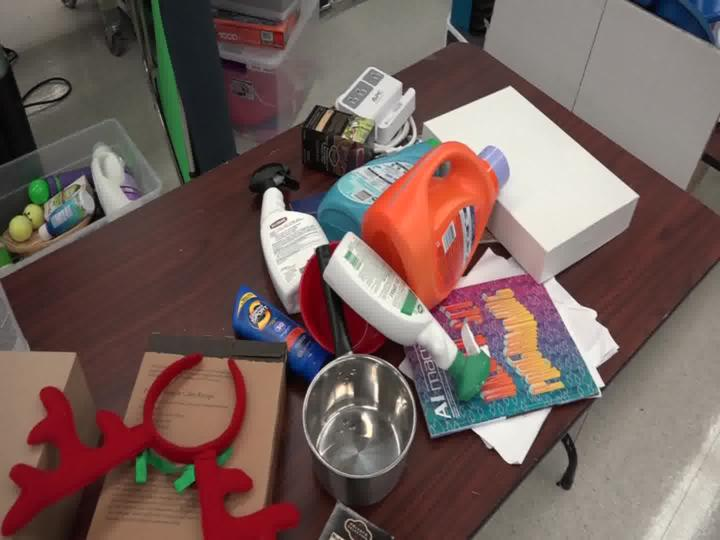downy: (301, 131, 442, 262)
